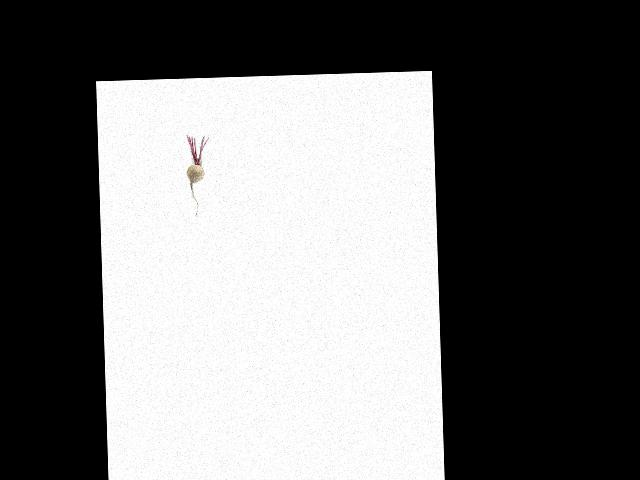beet: (185, 134, 210, 217)
